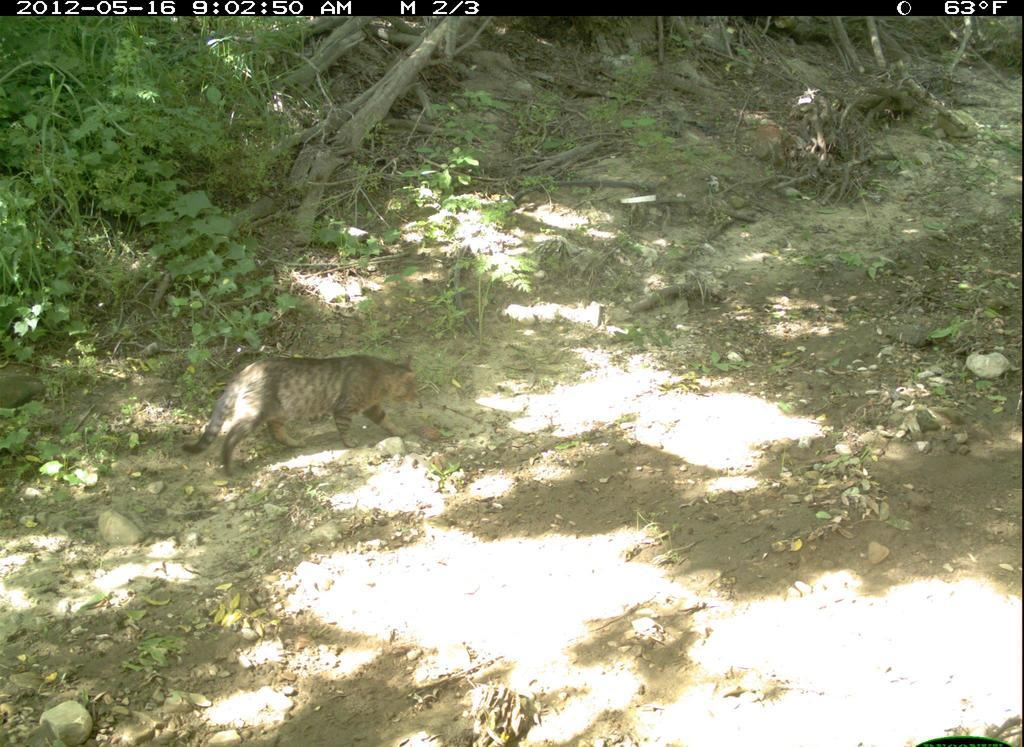cat: (181, 349, 431, 481)
